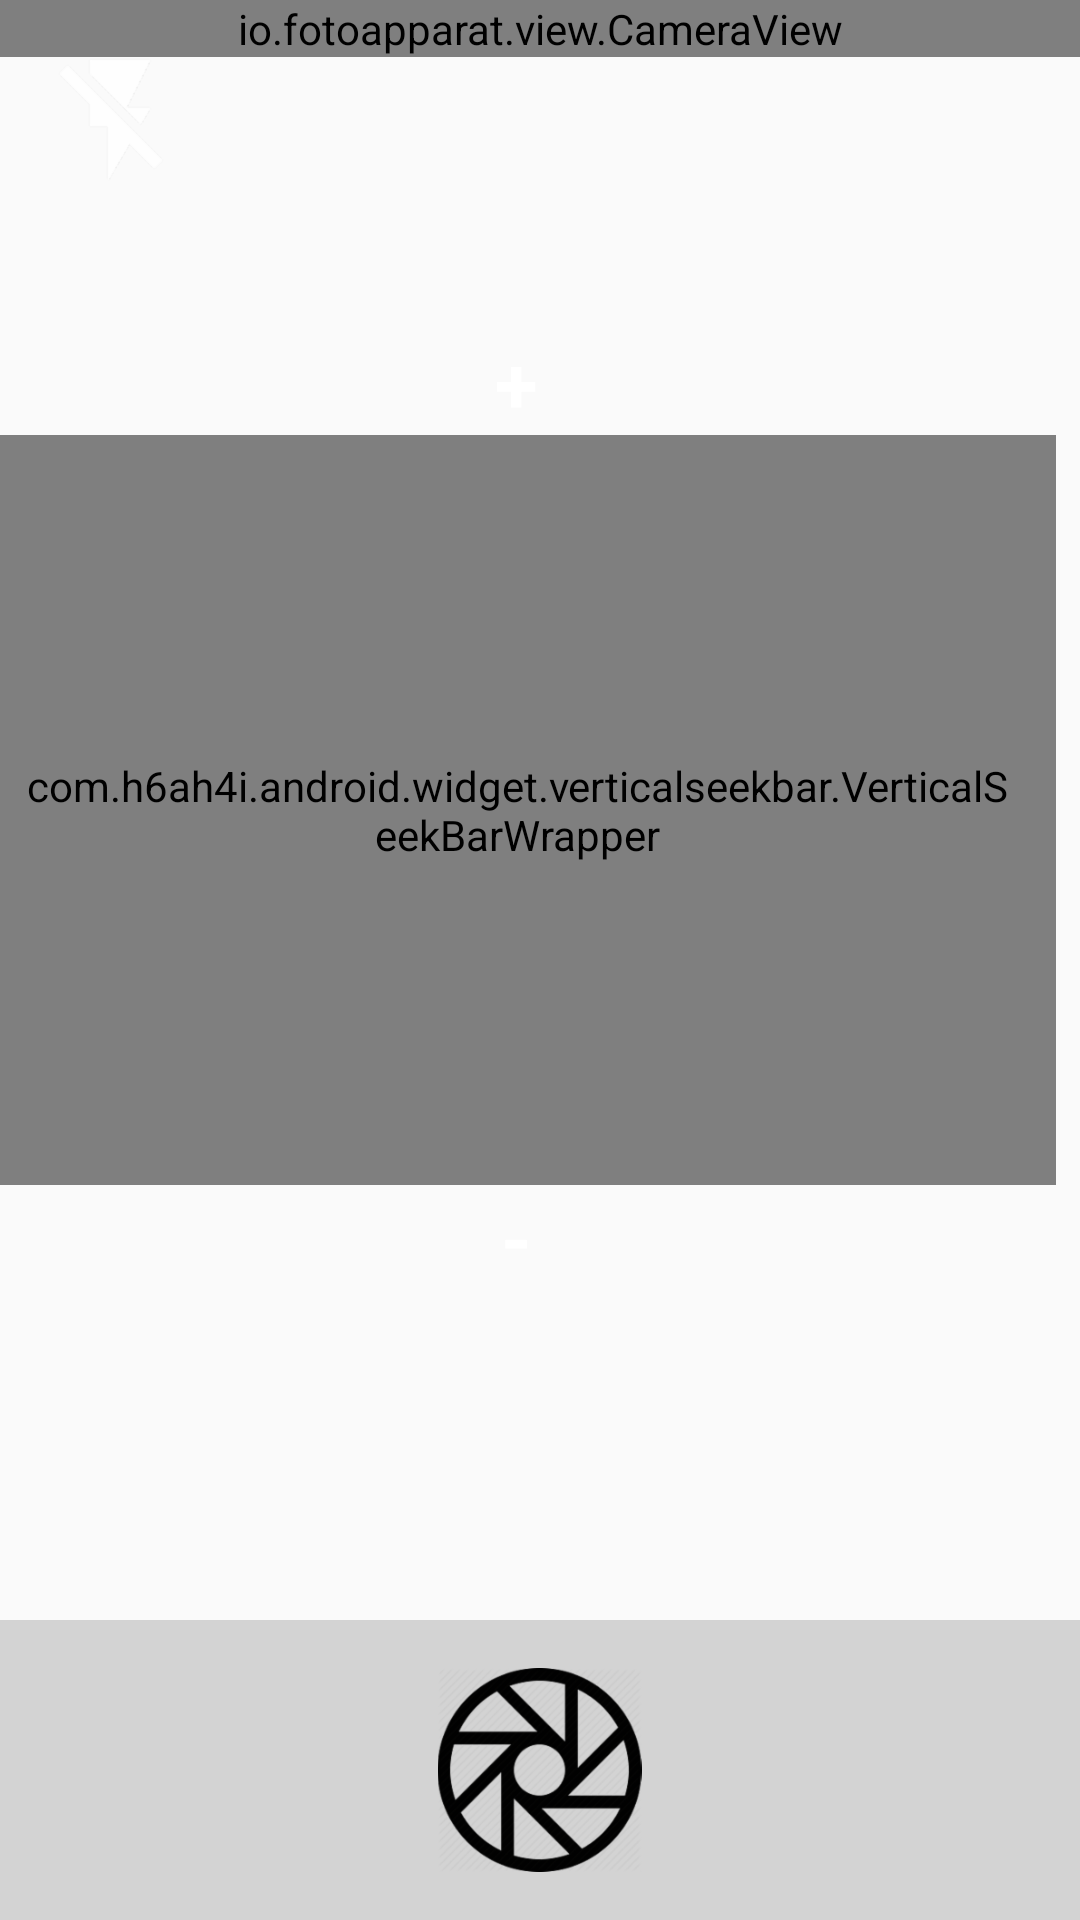

Screen size 1080px×1920px. Icon name, then its box in pixels as rect(x1, y1, x2, y2):
capture: rect(438, 1668, 642, 1872)
